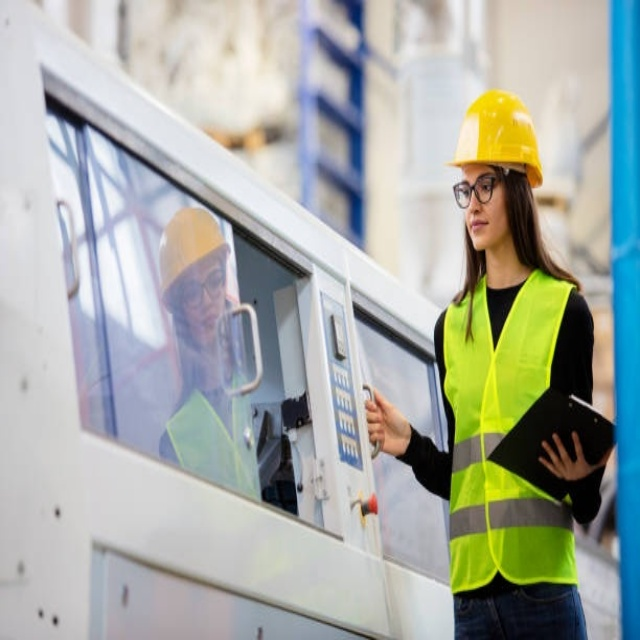Gafas: (453, 168, 505, 204)
Sin_guantes: (540, 427, 600, 484), (366, 387, 410, 458)
Sin_mascara: (465, 210, 493, 245)
